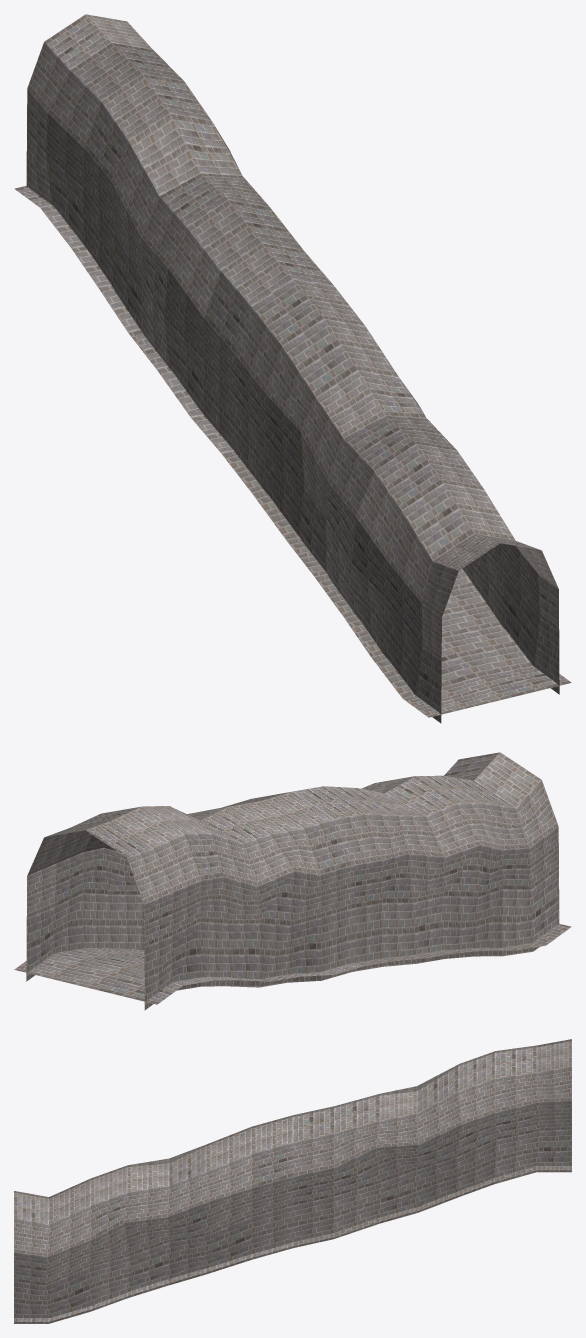
The model's file is map50DSSN_CHK.fbx.
The picture shows the model from 3 angles, top to bottom: view 1: azimuth 30°, elevation 25°; view 2: azimuth 150°, elevation 25°; view 3: azimuth 270°, elevation 25°; orthographic projection. The views are drawn at different scales.
Parts seen in each view (by area): view 1: Layer1, Layer4; view 2: Layer1, Layer4; view 3: Layer1, Layer4.
Boxes of the visible parts, left/top/right/bottom form: Layer1: left=26, top=14, right=559, bottom=723; Layer4: left=14, top=185, right=571, bottom=717; Layer1: left=26, top=752, right=559, bottom=1010; Layer4: left=14, top=923, right=571, bottom=1004; Layer1: left=14, top=1039, right=571, bottom=1323; Layer4: left=14, top=1166, right=571, bottom=1321.
Bounding box in the file's own units: 0.2006 × 0.5208 × 1.
